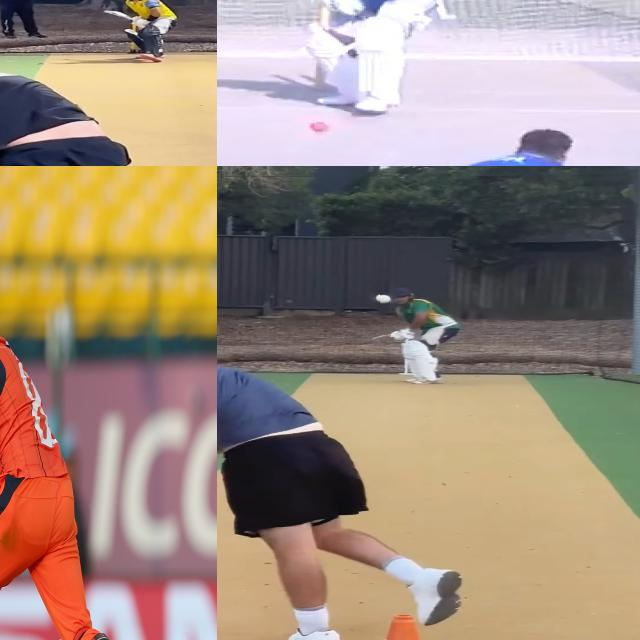Cricket ball: (309, 118, 332, 135), (374, 292, 394, 304)
